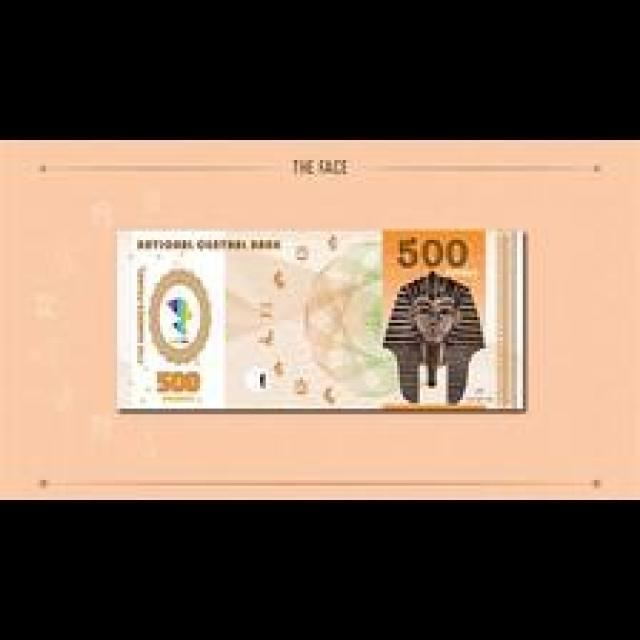banknote: (114, 226, 526, 411)
